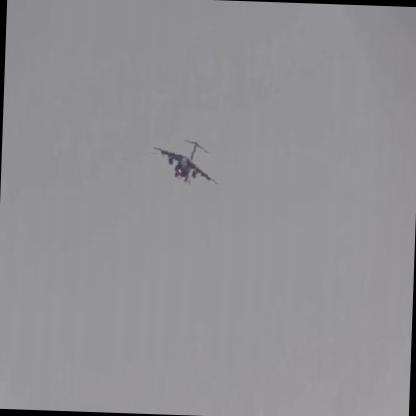plane: (150, 132, 228, 187)
